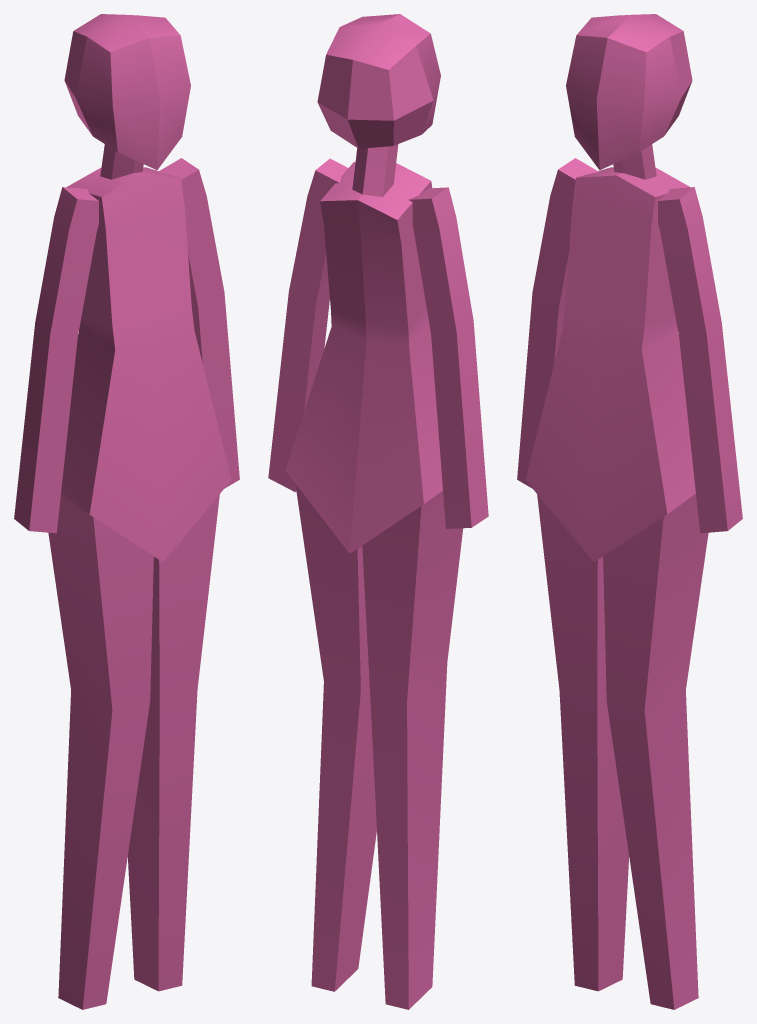
Rendered from woman01.glb.
3 renders of one model, left to right at view 1: azimuth 30°, elevation 25°; view 2: azimuth 150°, elevation 25°; view 3: azimuth 330°, elevation 25°, orthographic. The views are drawn at different scales.
Parts seen in each view (by area): view 1: woman01_col; view 2: woman01_col; view 3: woman01_col.
Boxes of the visible parts, box(x1,y1,x2,y2) form: woman01_col: box(14, 14, 239, 1009); woman01_col: box(268, 14, 488, 1009); woman01_col: box(517, 14, 742, 1009).
Bounding box in the file's own units: 2.76 × 12.29 × 1.54.
